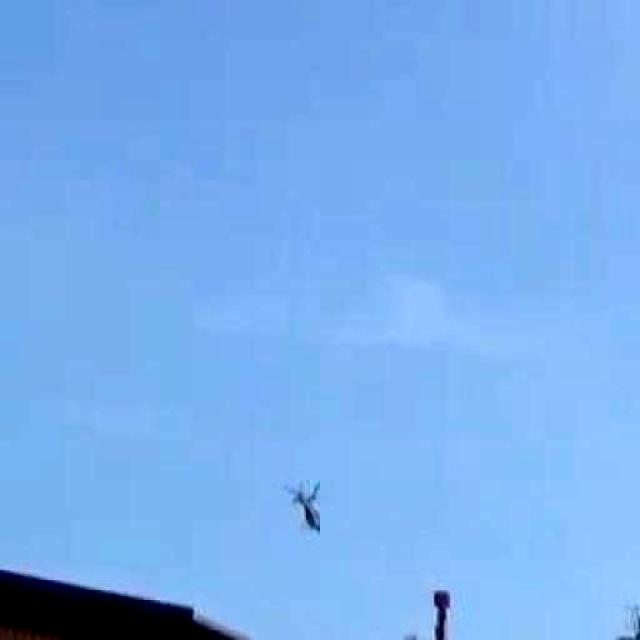drone: (268, 445, 348, 571)
